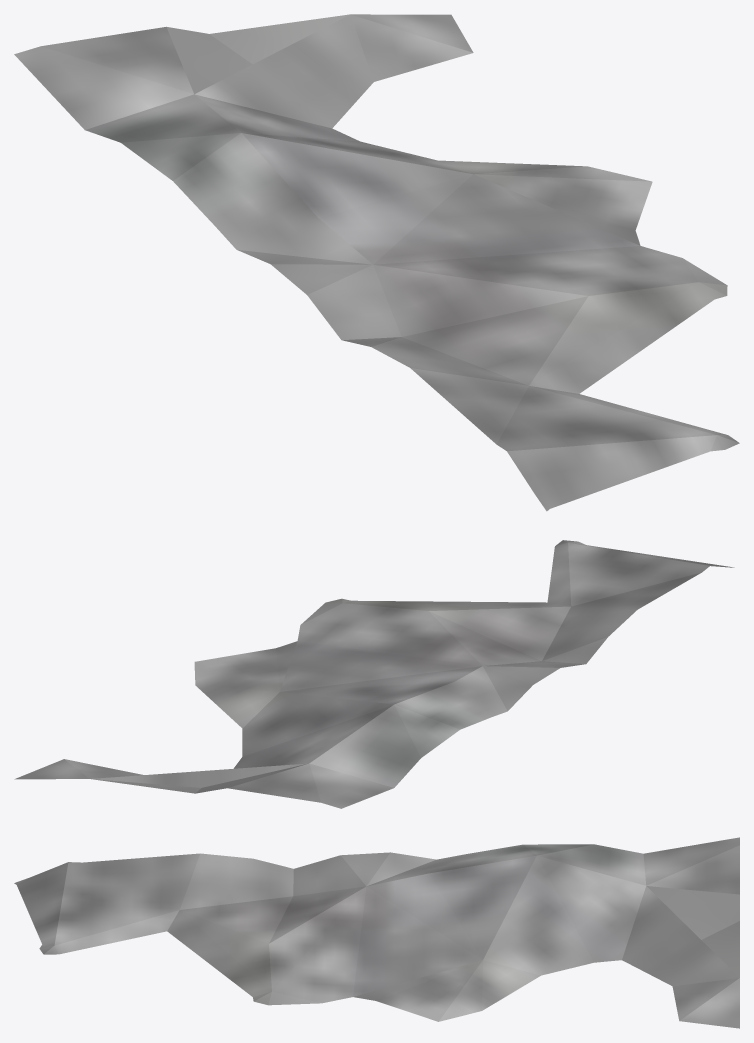
3 renders of one model, top to bottom at view 1: azimuth 30°, elevation 25°; view 2: azimuth 150°, elevation 25°; view 3: azimuth 270°, elevation 25°, orthographic. The views are drawn at different scales.
Bounding box in the file's own units: 0.1114 × 0.0191 × 0.2349.
1 material, 1 textured.
